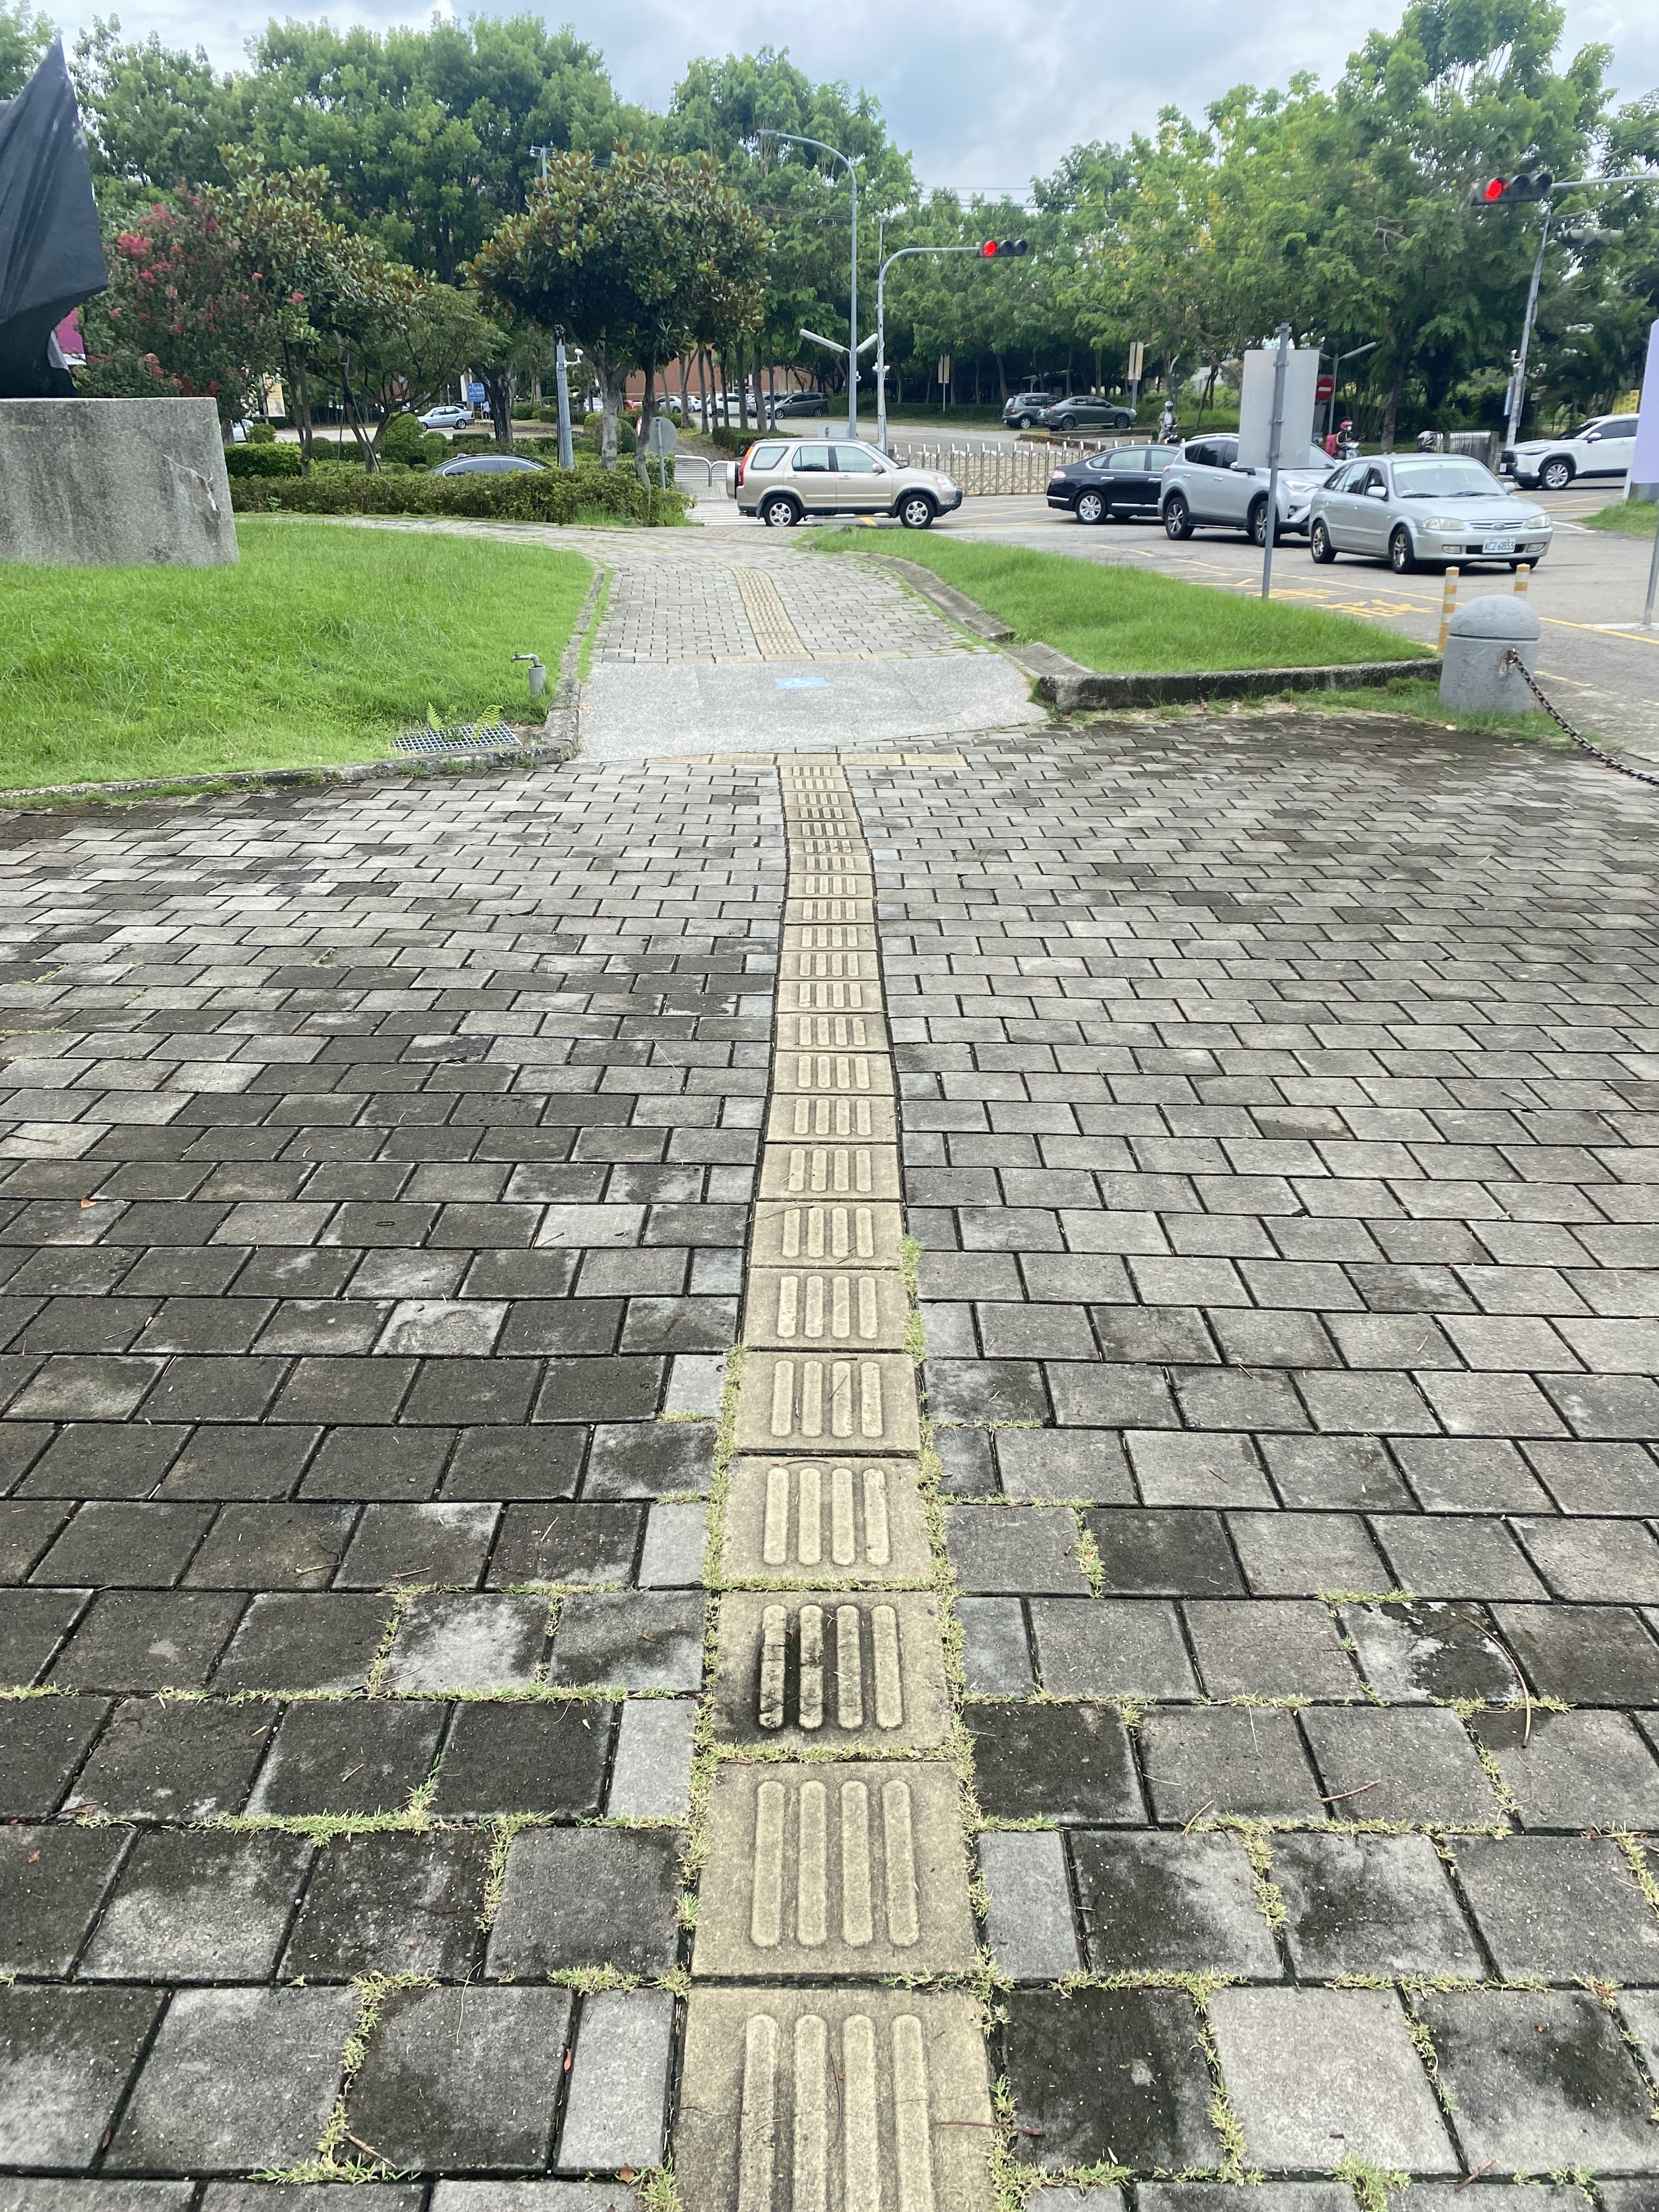0: (7, 772, 1659, 2212)
sidewalk: (427, 472, 1164, 857)
